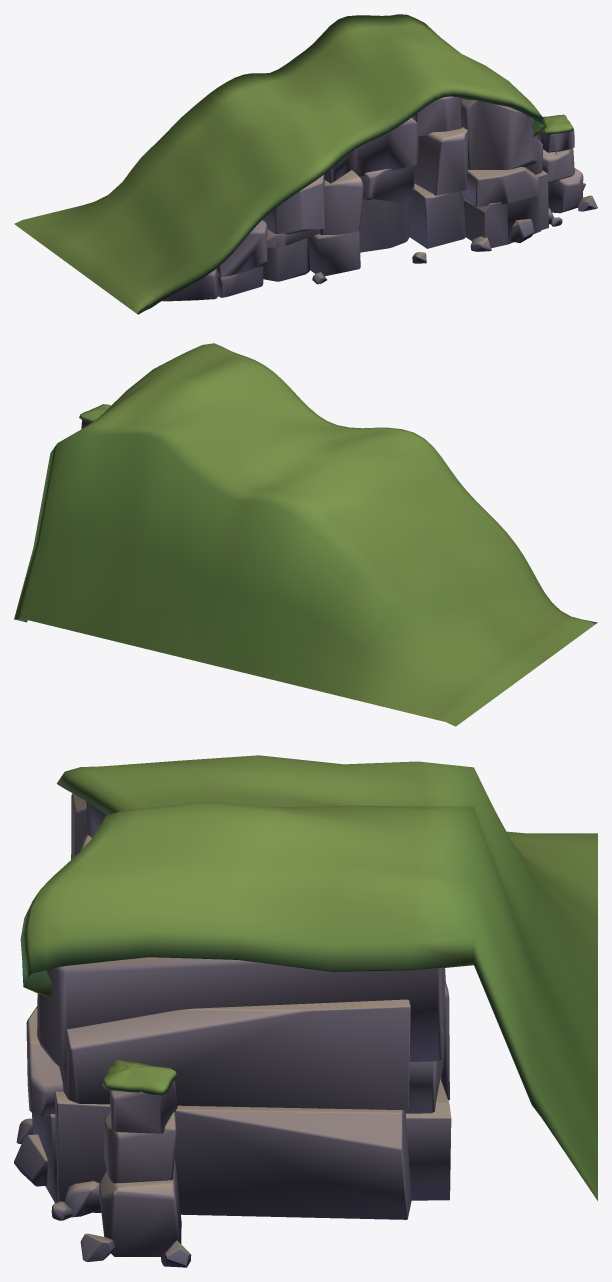
File: Headland.fbx
3 renders of one model, top to bottom at view 1: azimuth 30°, elevation 25°; view 2: azimuth 150°, elevation 25°; view 3: azimuth 270°, elevation 25°, orthographic. The views are drawn at different scales.
Parts seen in each view (by area): view 1: Headland; view 2: Headland; view 3: Headland.
Part boxes in pixels (box(x1,y1,x2,y2)): Headland: box(14, 14, 597, 314); Headland: box(14, 343, 597, 726); Headland: box(14, 755, 597, 1267).
Bounding box in the file's own units: 62.94 × 21.15 × 35.31.
